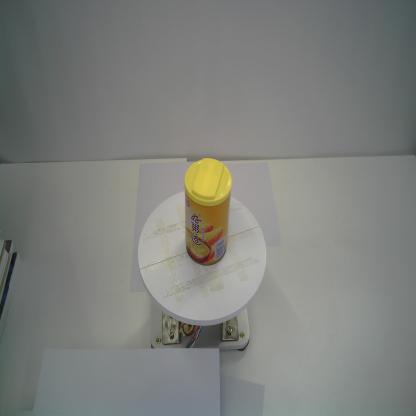Canned Food: (180, 156, 235, 269)
